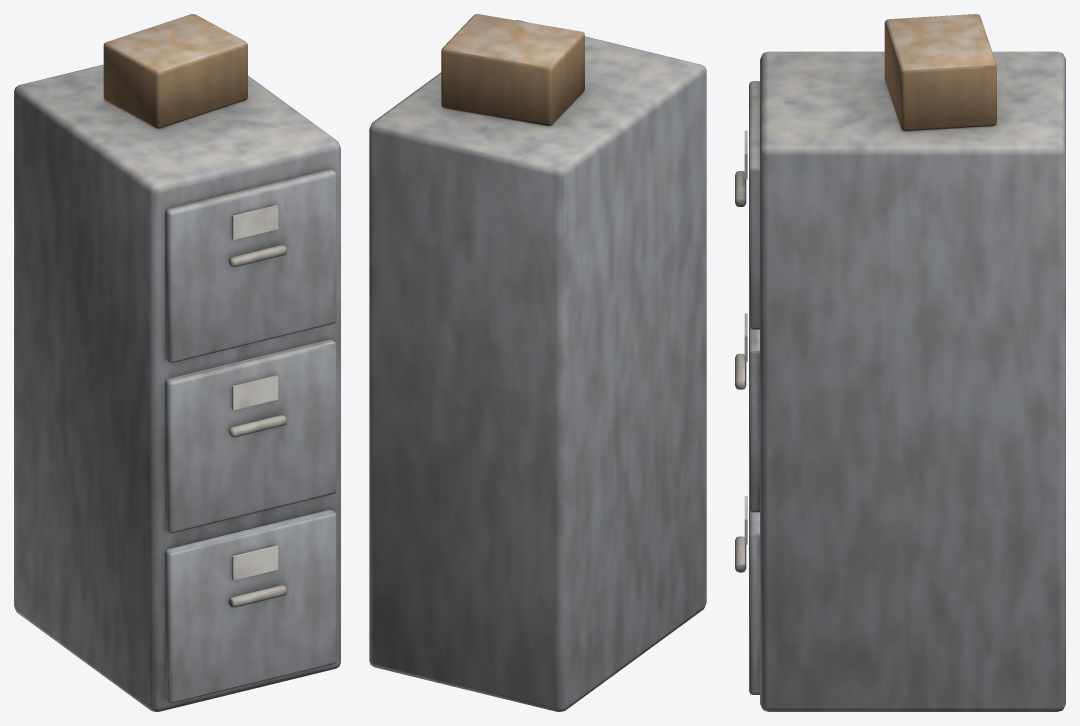
The model's file is filing_cabinet.fbx.
The picture shows the model from 3 angles, left to right: view 1: azimuth 30°, elevation 25°; view 2: azimuth 150°, elevation 25°; view 3: azimuth 270°, elevation 25°; orthographic projection. The views are drawn at different scales.
Parts seen in each view (by area): view 1: Body, Drawer1, Drawer2, Drawer3; view 2: Body; view 3: Body, Drawer3, Drawer2, Drawer1.
Boxes of the visible parts, x1,y1,x2,y2 form: Body: (14,14,340,711); Drawer1: (165,509,336,703); Drawer2: (165,339,336,533); Drawer3: (165,169,336,362); Body: (369,14,706,711); Body: (760,14,1065,711); Drawer3: (735,81,759,329); Drawer2: (735,313,759,512); Drawer1: (735,496,759,694).
Bounding box in the file's own units: 1.7 × 5 × 2.38.
1 material, 1 textured.
